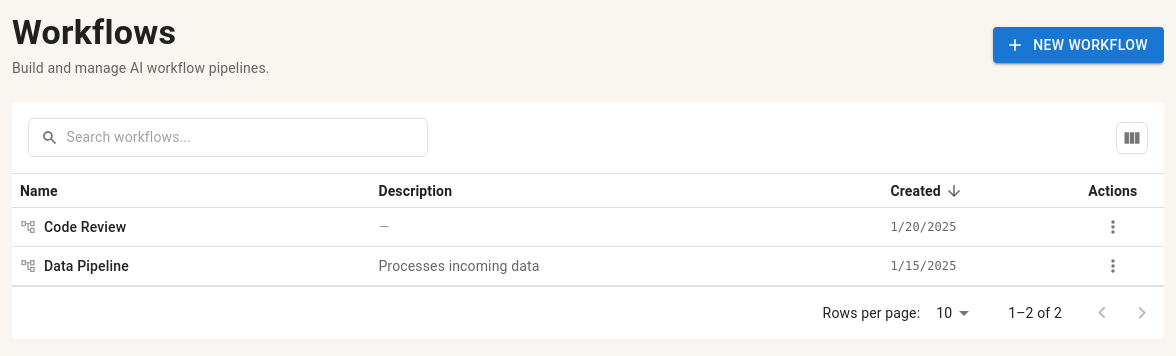
it: WorkflowsPage › hides create form when Cancel is clicked
The width and height of the screenshot is (1176, 356).
Click the button "New Workflow" at (1079, 45), box 993,27 -> 1164,63
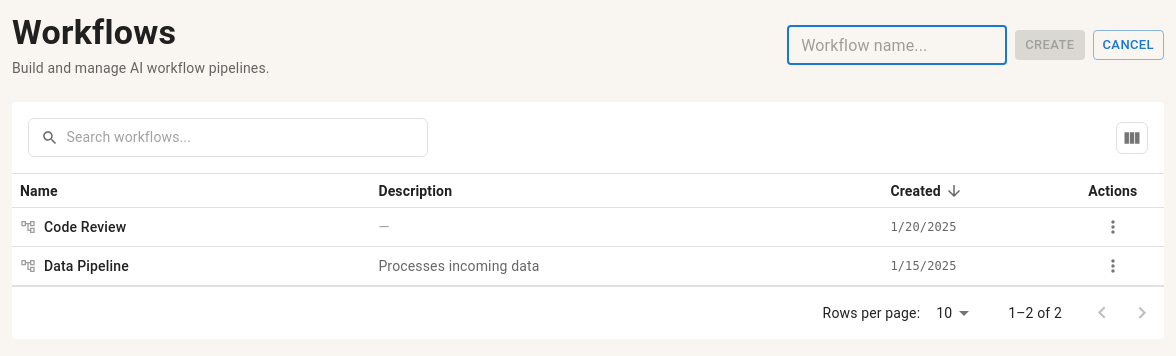
Result: the field with placeholder "Workflow name..." is shown at 787,25 -> 1007,65
Click the button "Cancel" at (1128, 45), box 1092,30 -> 1164,60
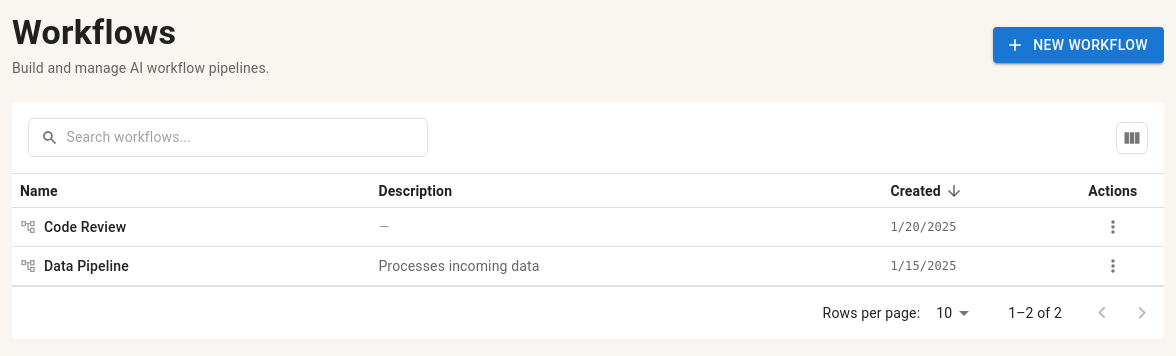
Expected: the field with placeholder "Workflow name..." is not shown
Result: the button "New Workflow" is shown at 993,27 -> 1164,63
